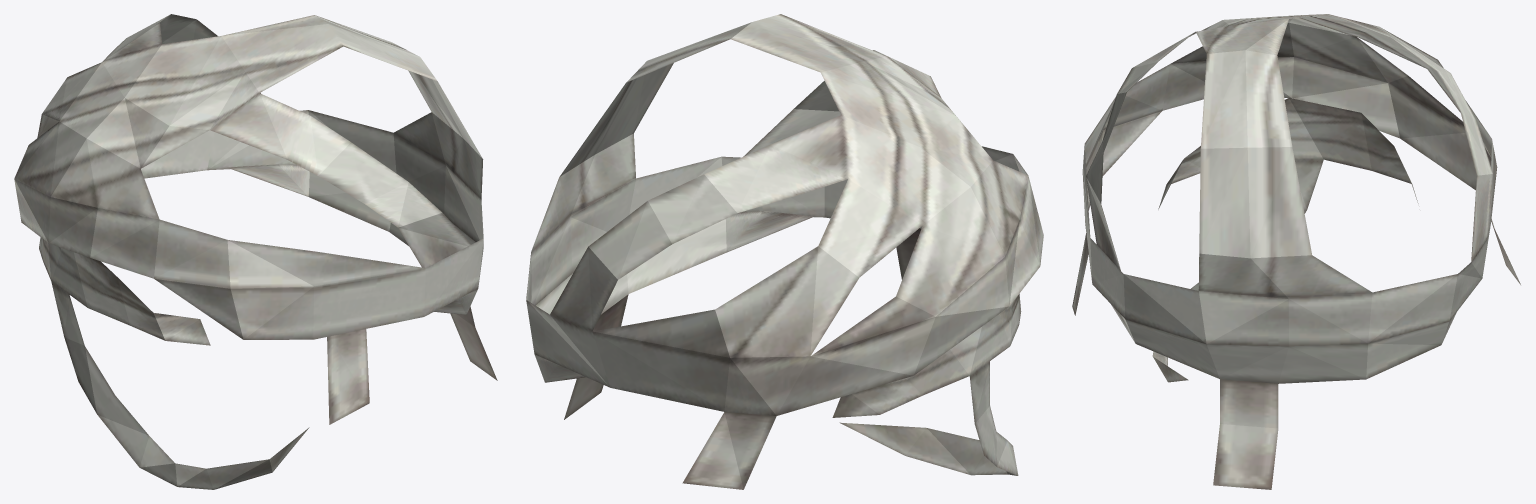
File: Rabbit_mummyHead.obj
The picture shows the model from 3 angles, left to right: view 1: azimuth 30°, elevation 25°; view 2: azimuth 150°, elevation 25°; view 3: azimuth 270°, elevation 25°; orthographic projection. The views are drawn at different scales.
Visible parts, largest first — view 1: Rabbit_mummyHead_tri; view 2: Rabbit_mummyHead_tri; view 3: Rabbit_mummyHead_tri.
Part boxes in pixels (x1,y1,x2,y2): Rabbit_mummyHead_tri: (14, 14, 497, 489); Rabbit_mummyHead_tri: (526, 14, 1043, 489); Rabbit_mummyHead_tri: (1072, 14, 1520, 489).
Bounding box in the file's own units: 0.264 × 0.2448 × 0.2625.
Materials: 1 (1 with a texture image).
